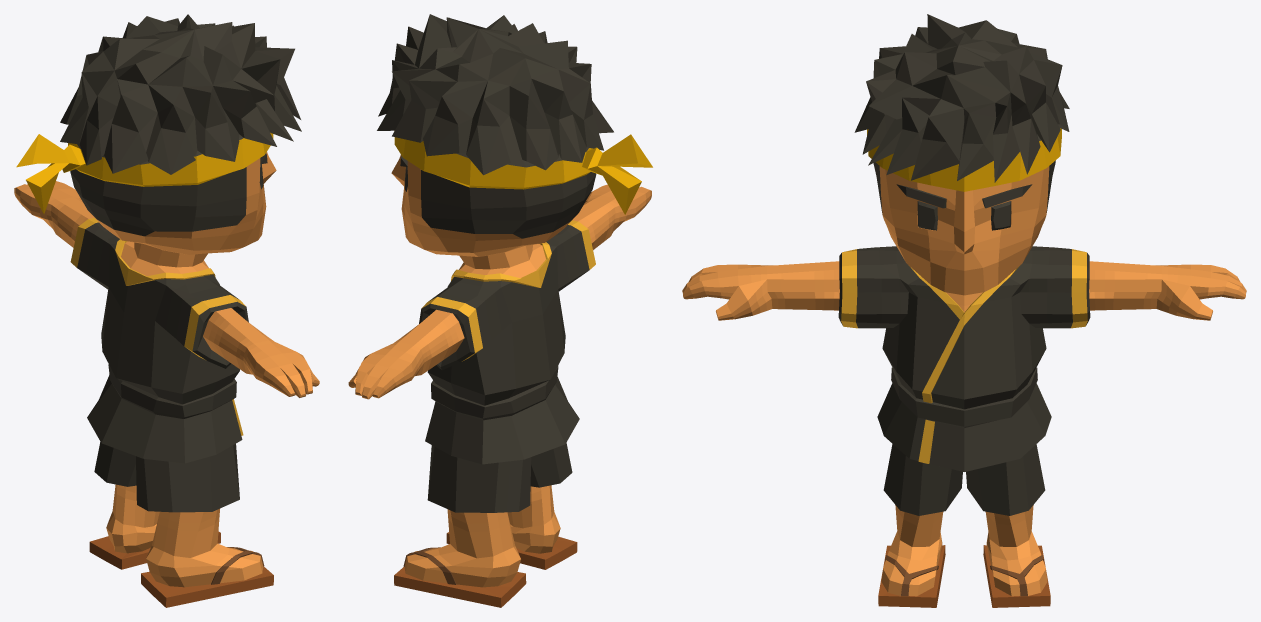
The model's file is KaitoModel.fbx.
3 views of the same model, side by side, from view 1: azimuth 30°, elevation 25°; view 2: azimuth 150°, elevation 25°; view 3: azimuth 270°, elevation 25° (orthographic).
Visible parts, largest first — view 1: Cuerpo; view 2: Cuerpo; view 3: Cuerpo.
Boxes of the visible parts, <box> form: Cuerpo: <box>14,14,319,607</box>; Cuerpo: <box>348,14,652,607</box>; Cuerpo: <box>682,14,1246,607</box>.
Size of the model in its own units: 147 by 283 by 267.
